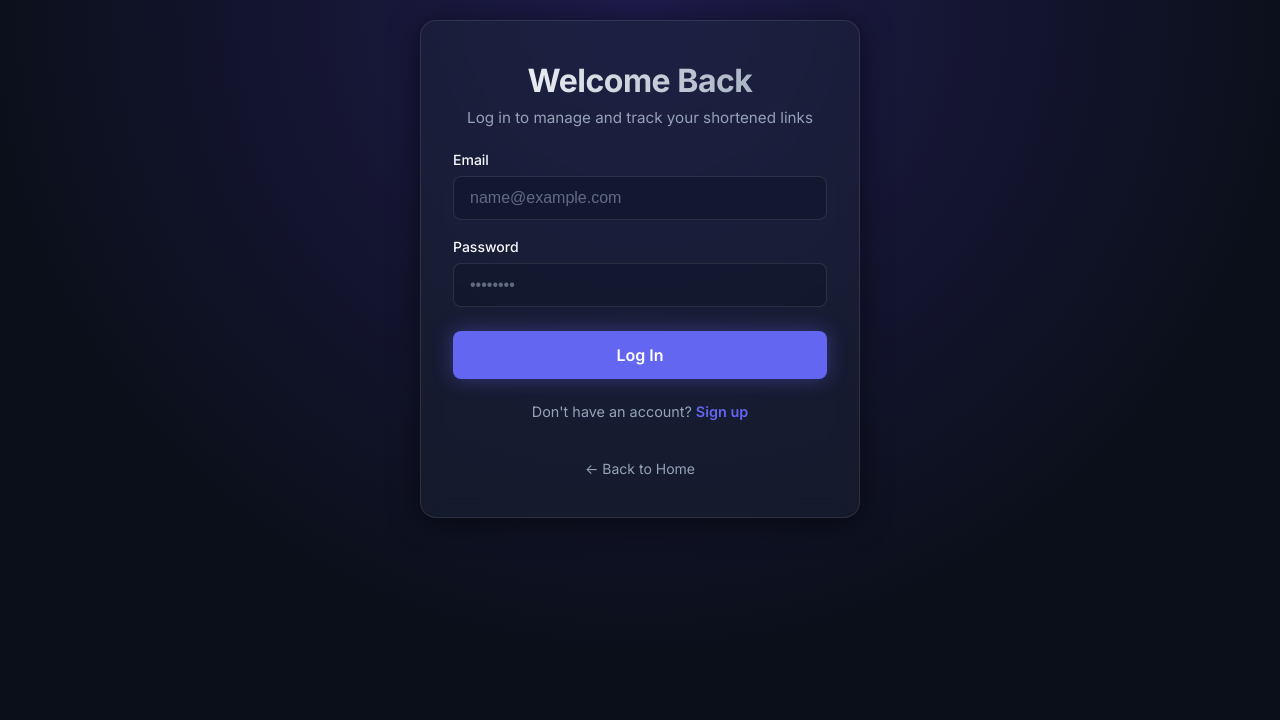
Test case: LoginPage Component › validates missing password
The image size is (1280, 720).
In the field labelled "Email": (640, 198) [453, 176, 827, 220], type "user@example.com"
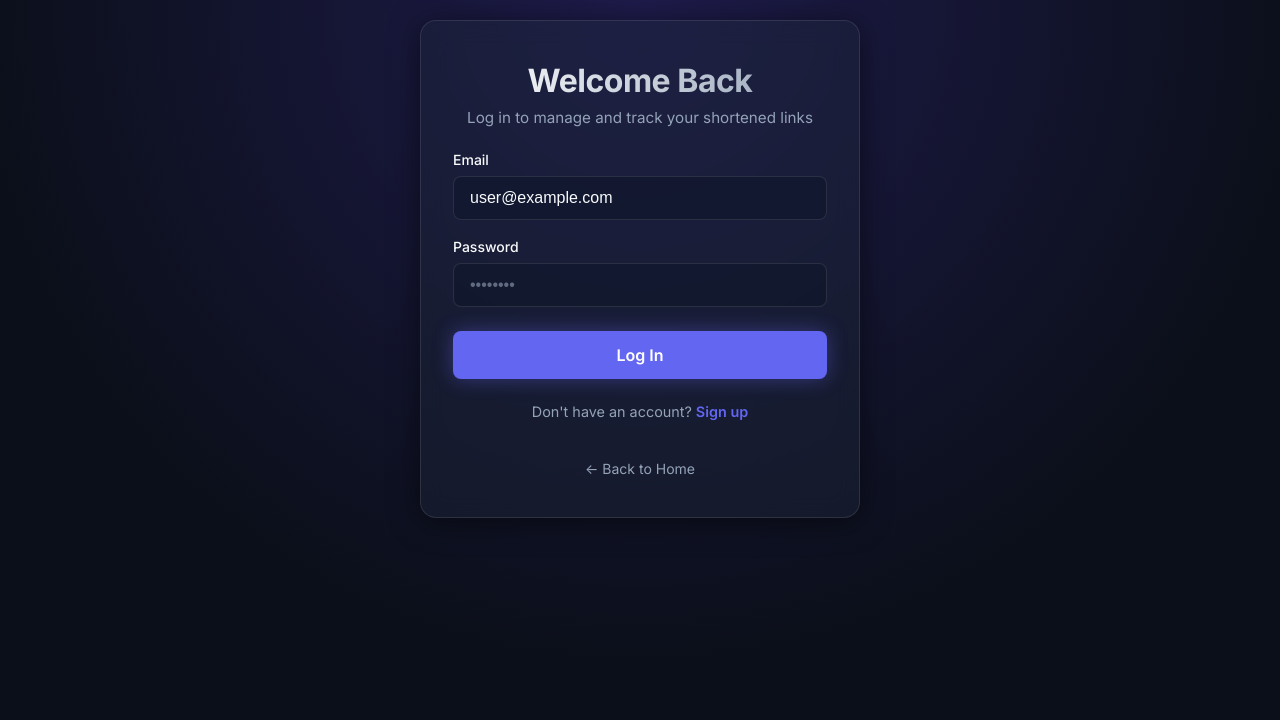
Click the button "Log In": (640, 355) [453, 331, 827, 379]
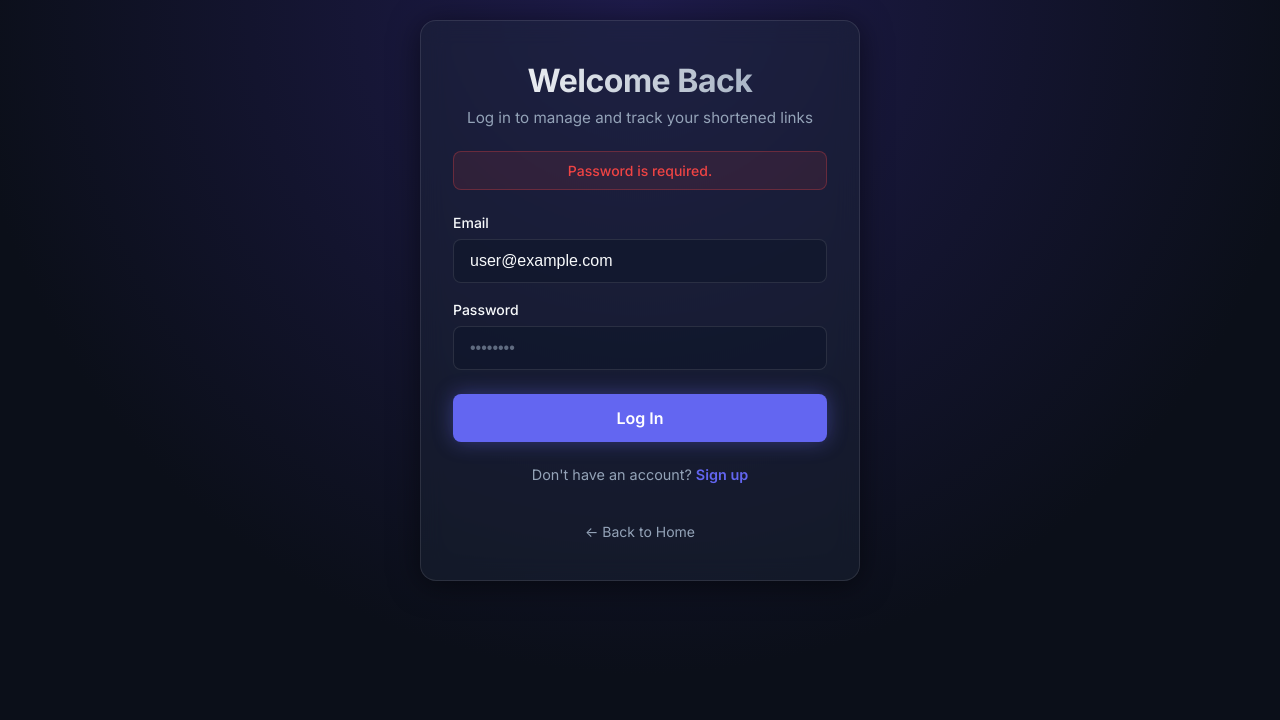
Expected: the text "Password is required." is shown, [453, 151, 827, 190]
